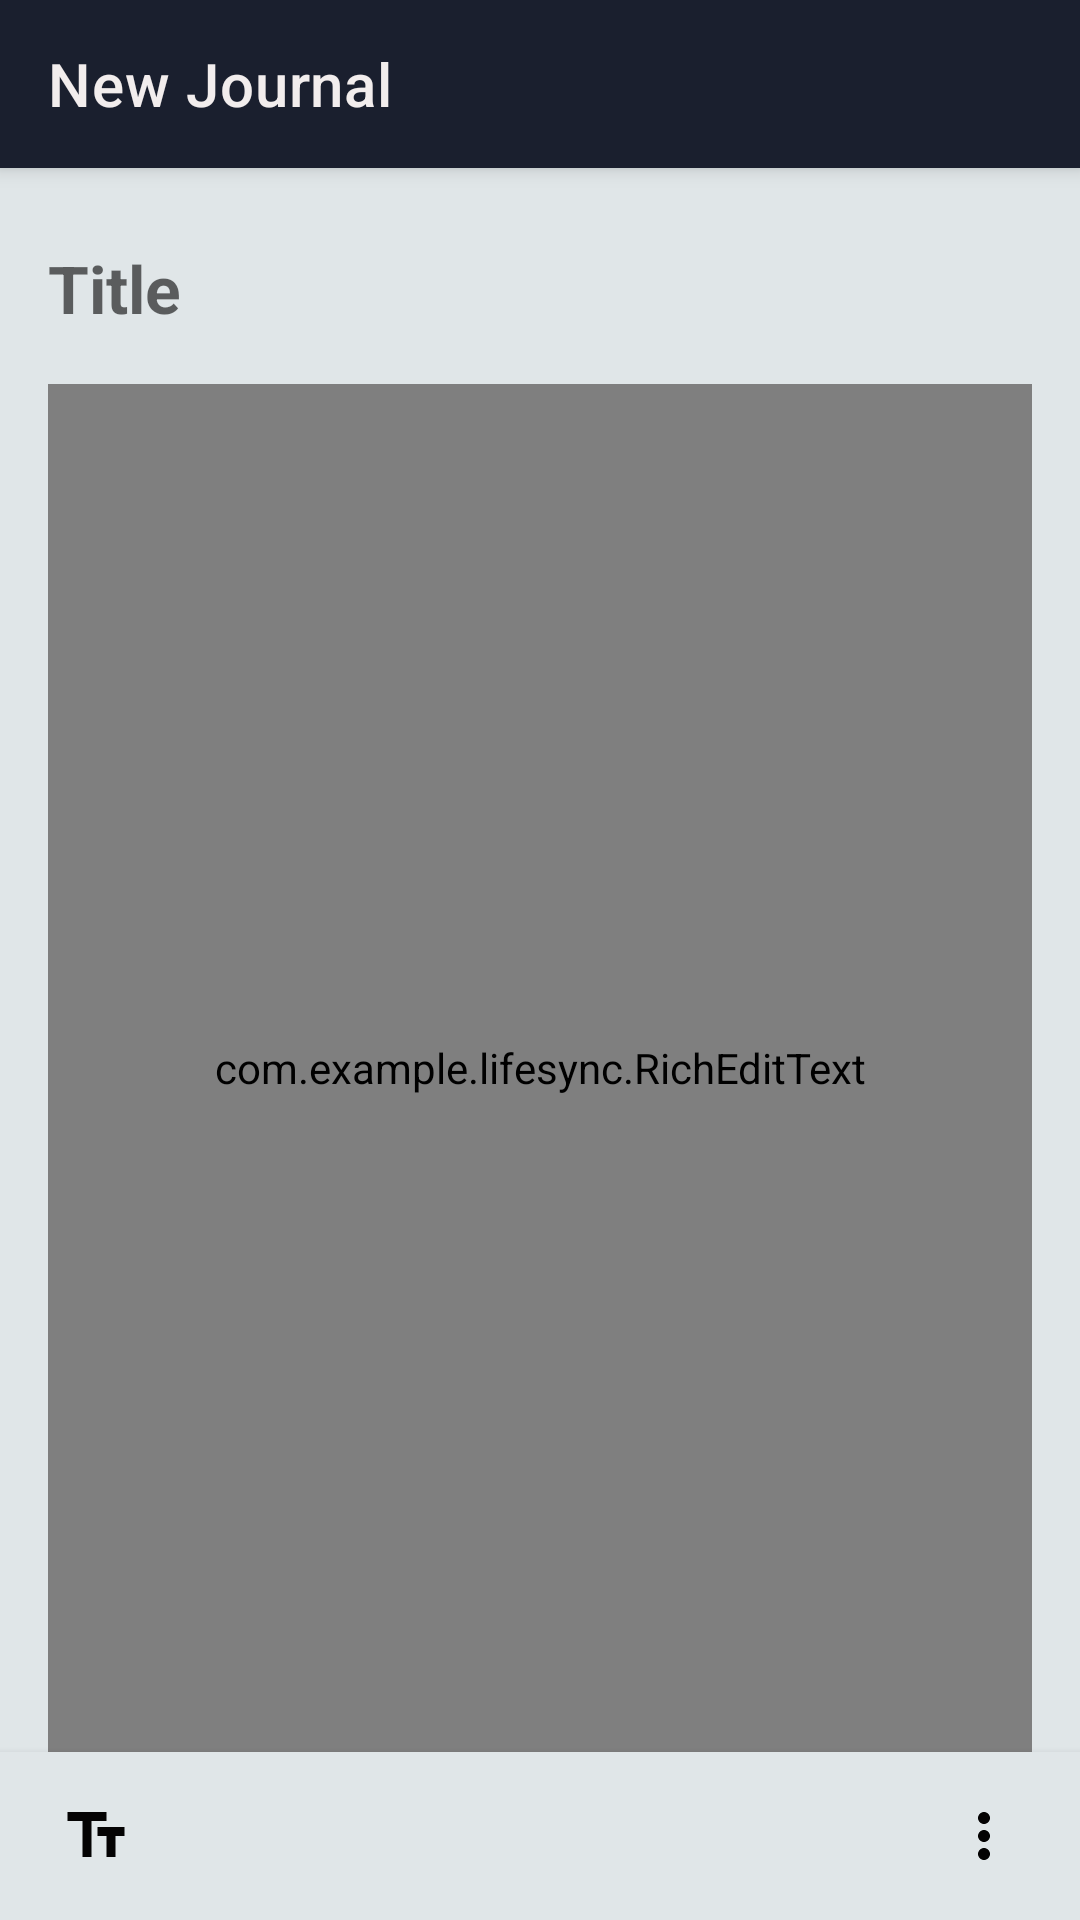

Locate icon controls on the screen. Image size 1080x1920, boxes as (x1, y1, x2, y2).
More Options: (978, 1812, 990, 1860)
Text Styles: (67, 1812, 125, 1857)
